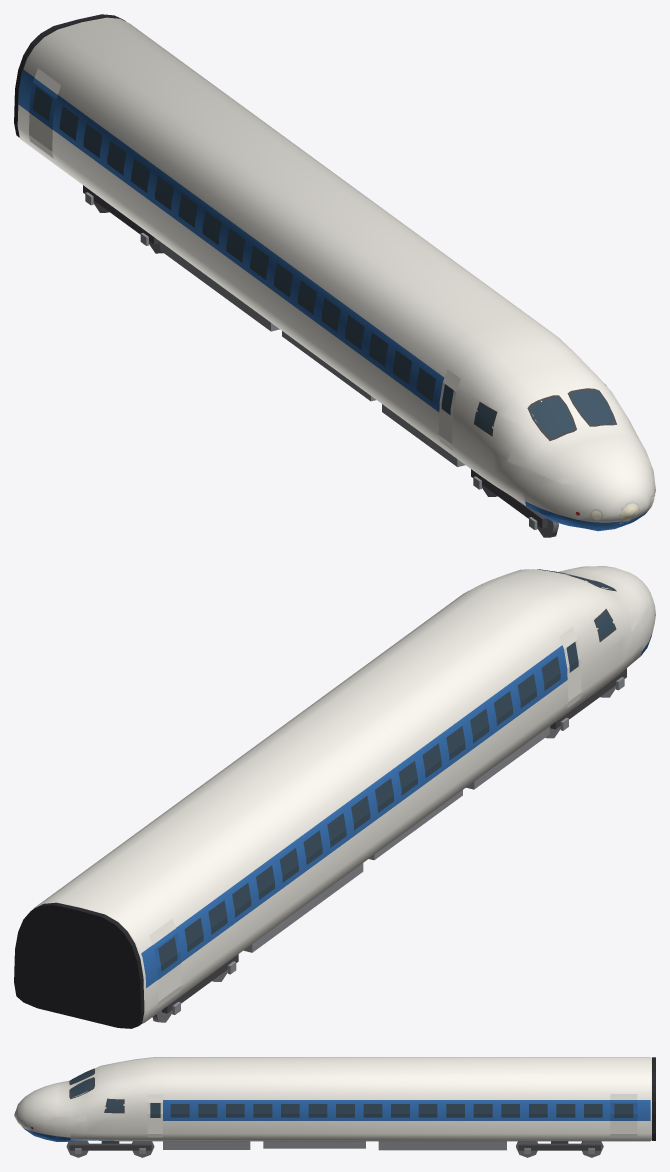
3 renders of one model, top to bottom at view 1: azimuth 30°, elevation 25°; view 2: azimuth 150°, elevation 25°; view 3: azimuth 270°, elevation 25°, orthographic. The views are drawn at different scales.
Visible parts, largest first — view 1: 392; view 2: 392; view 3: 392.
Part boxes in pixels (x1,y1,x2,y2): 392: [14, 14, 655, 537]; 392: [14, 566, 655, 1028]; 392: [14, 1057, 655, 1157].
Size of the model in its own units: 3.37 by 3.62 by 25.01.
